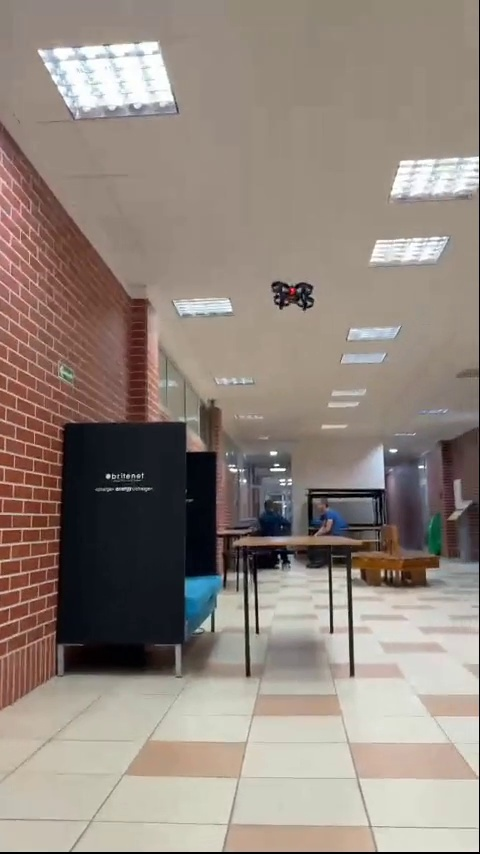drone: (271, 280, 313, 310)
no vest: (315, 496, 346, 541), (258, 496, 289, 539)
